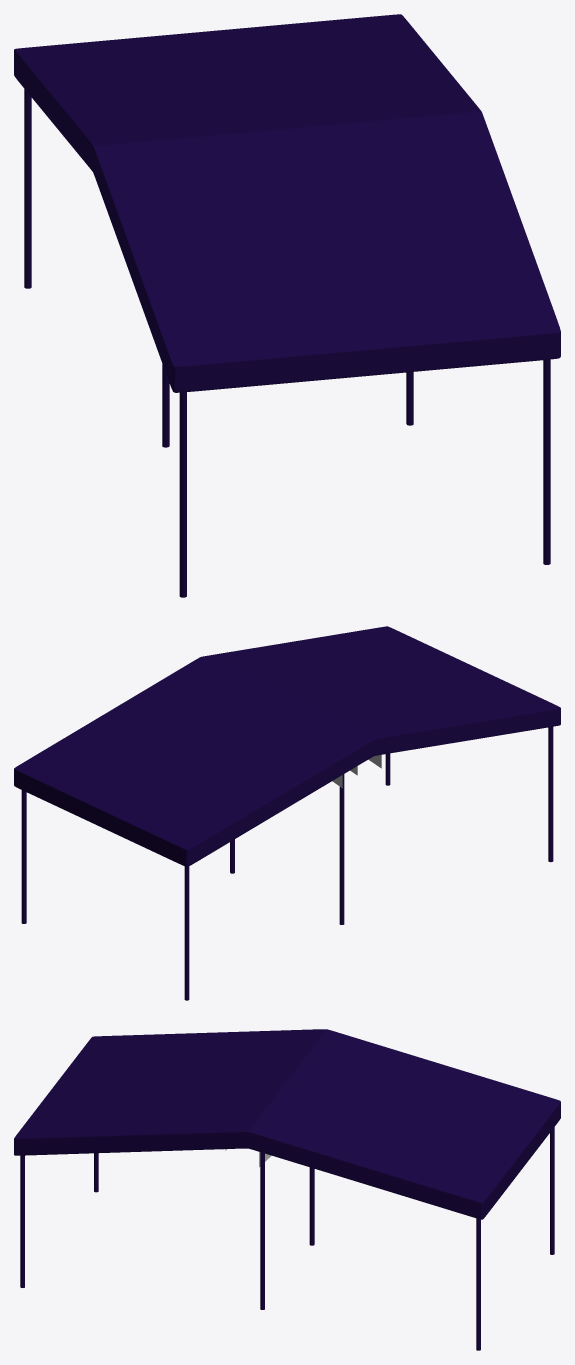
The model's file is tent.obj.
The picture shows the model from 3 angles, top to bottom: view 1: azimuth 30°, elevation 25°; view 2: azimuth 150°, elevation 25°; view 3: azimuth 270°, elevation 25°; orthographic projection. The views are drawn at different scales.
Visible parts, largest first — view 1: JrMap10_28.003; view 2: JrMap10_28.003; view 3: JrMap10_28.003.
Part boxes in pixels (bbox=[...]): JrMap10_28.003: bbox=[14, 14, 560, 597]; JrMap10_28.003: bbox=[14, 626, 560, 1000]; JrMap10_28.003: bbox=[14, 1029, 560, 1350].
Bounding box in the file's own units: 13.34 × 7.34 × 18.53.
